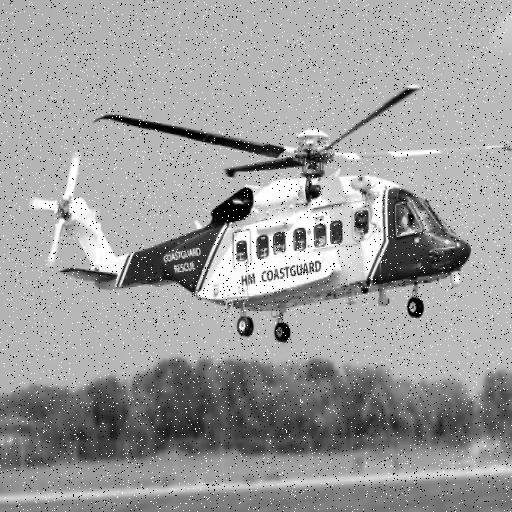helicopter: (26, 68, 500, 341)
